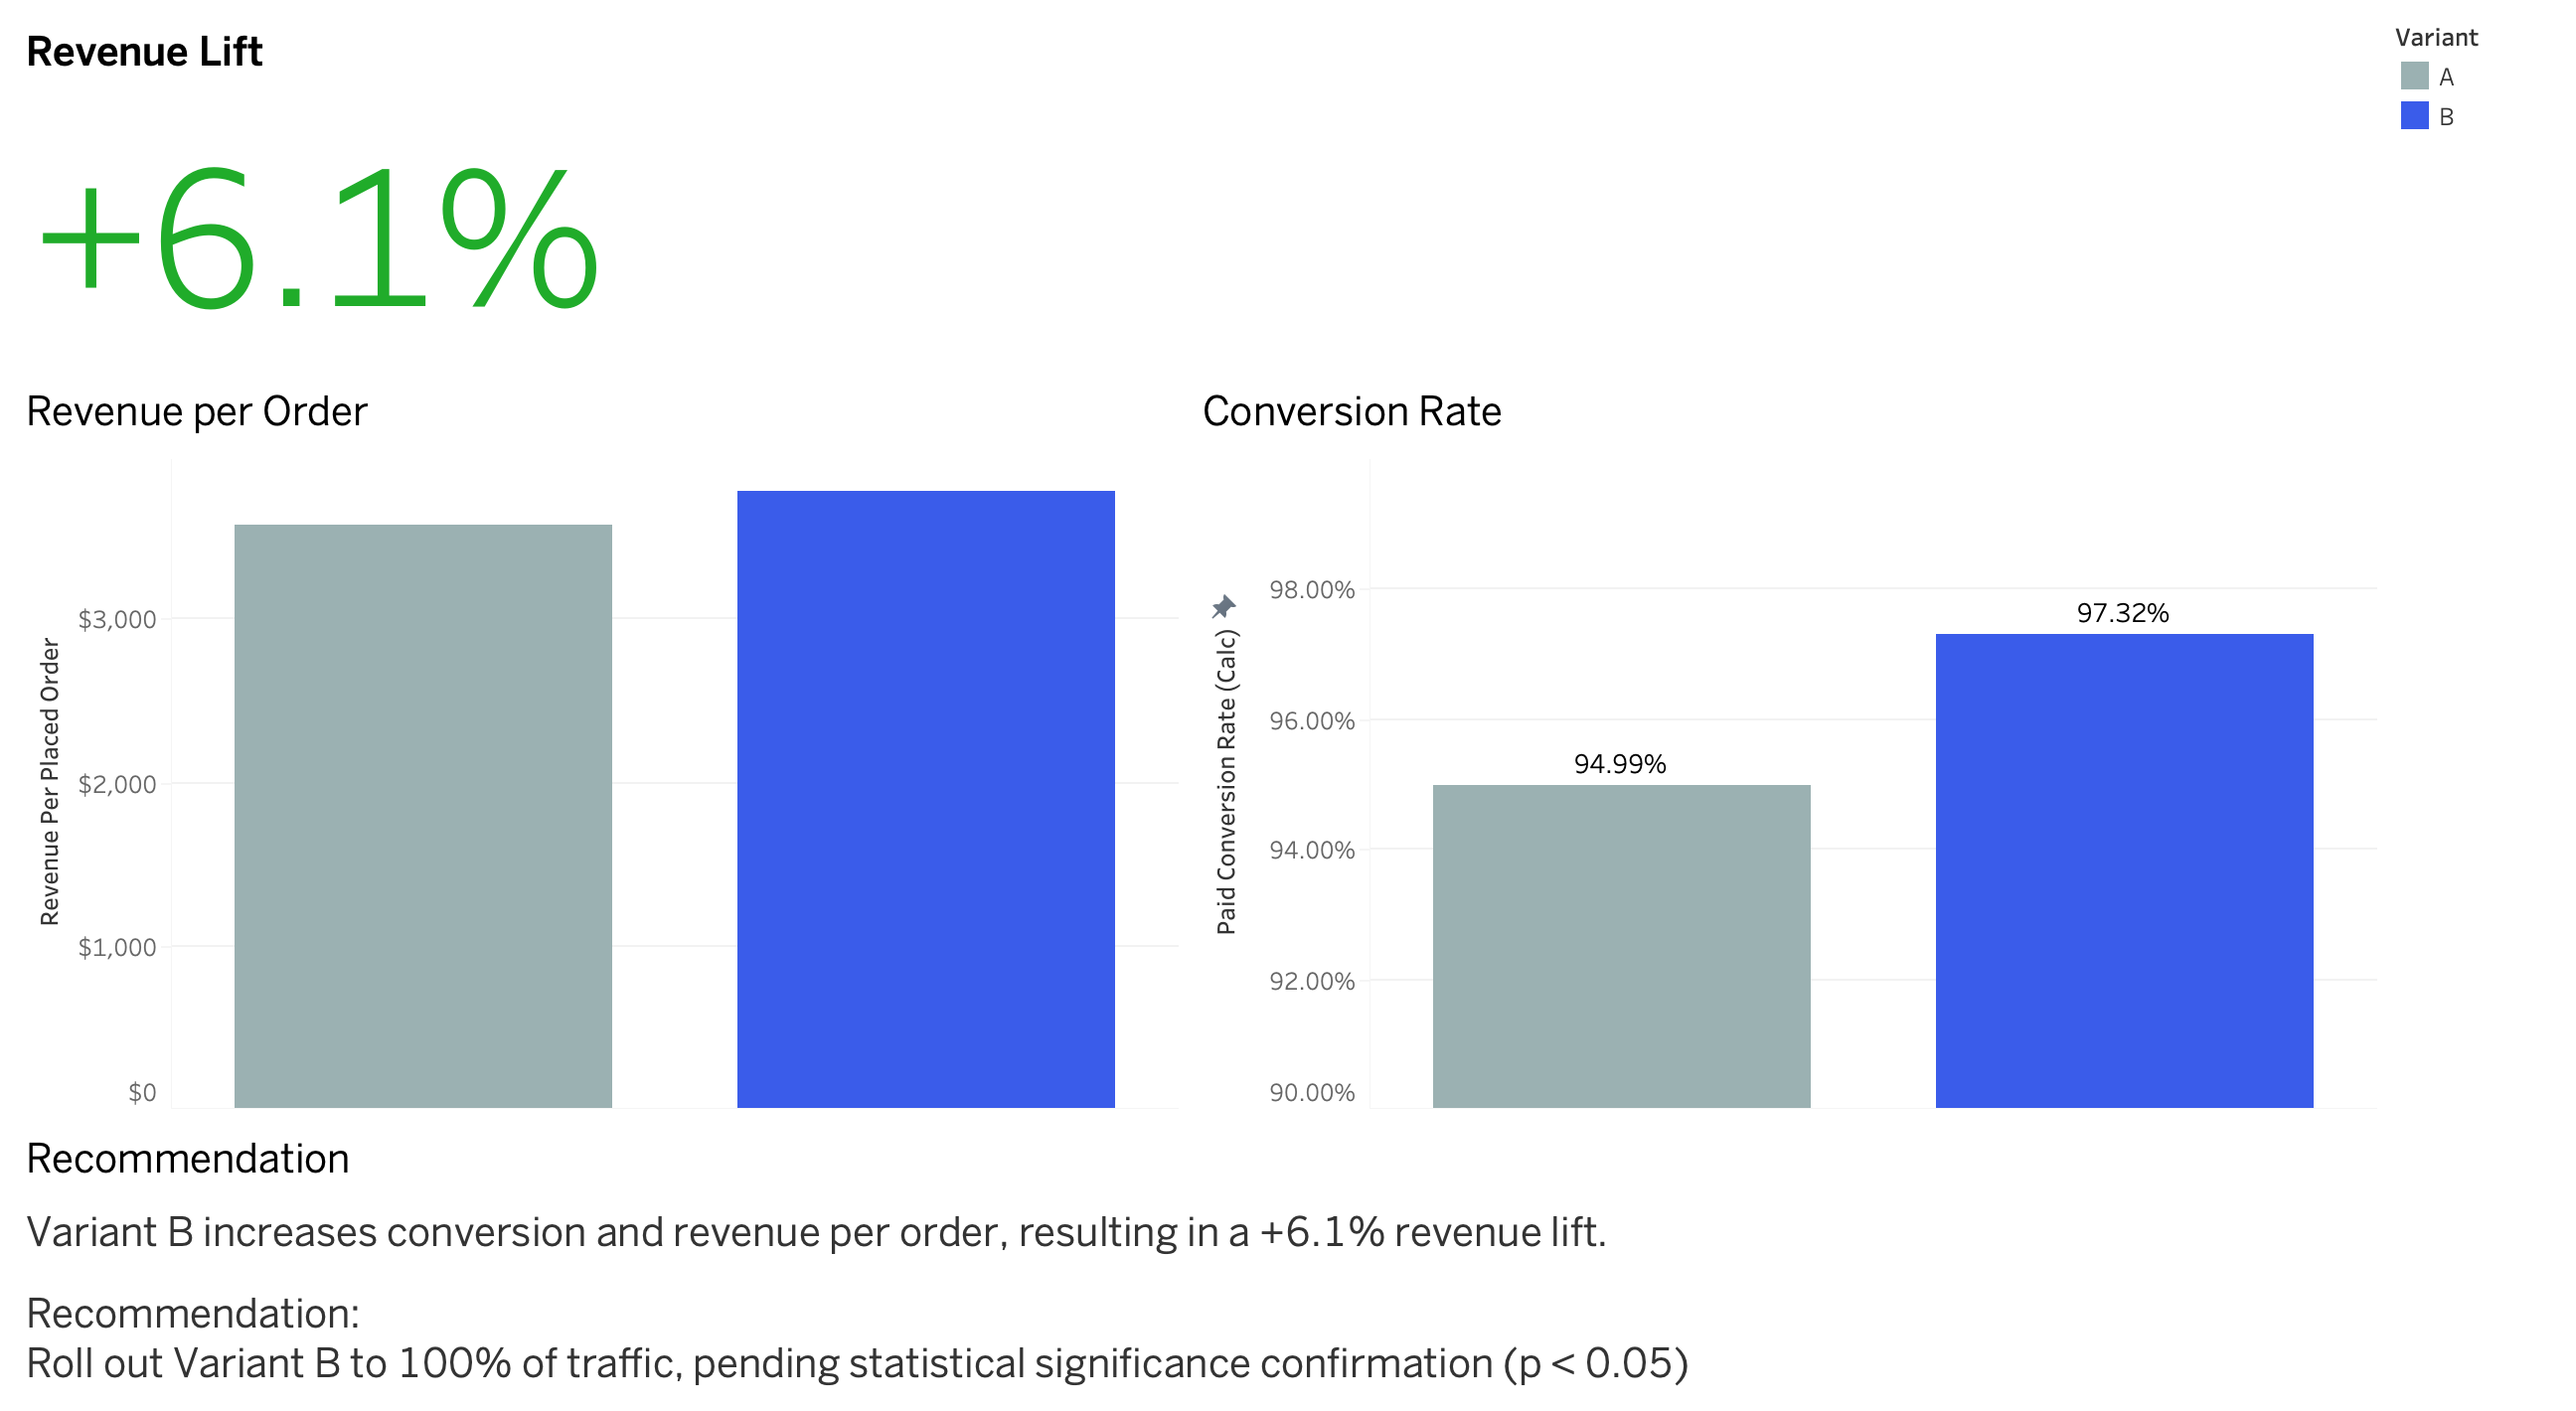

The page's visual inventory and layout, read from the dashboard file:
{"tool":"tableau","page":{"name":"Dashboard 1","canvas":[1200,800],"ordinal":0},"visuals":[{"type":"worksheet","title":"Sheet 3","mark":"Text","box":[8,8,1095,180]},{"type":"legend","title":"Sheet 1","param":"[federated.0dvwu420vvjjq61fducox1pvhvq1].[none:variant:nk]","box":[1103,8,89,66]},{"type":"worksheet","title":"Sheet 2","mark":"Automatic","rows":["revenue_per_placed_order"],"cols":["variant"],"box":[8,188,542,460]},{"type":"worksheet","title":"Sheet 1","mark":"Bar","rows":["Calculation_3429142987046913"],"cols":["variant"],"box":[550,188,553,460]},{"type":"worksheet","title":"Sheet 4","mark":"Text","box":[8,648,1095,144]}]}

Visuals, with their boxes on the page's 1200x800 design canvas (x1, y1, x2, y2). These are canvas units, not pixel positions in the 2576x1411 screenshot, which may show the page scaled, cropped or inside an application window:
"Sheet 3" worksheet (Text marks): pyautogui.locateOnScreen(8, 8, 1103, 188)
"Sheet 1" legend: pyautogui.locateOnScreen(1103, 8, 1192, 74)
"Sheet 2" worksheet: pyautogui.locateOnScreen(8, 188, 550, 648)
"Sheet 1" worksheet (Bar marks): pyautogui.locateOnScreen(550, 188, 1103, 648)
"Sheet 4" worksheet (Text marks): pyautogui.locateOnScreen(8, 648, 1103, 792)
